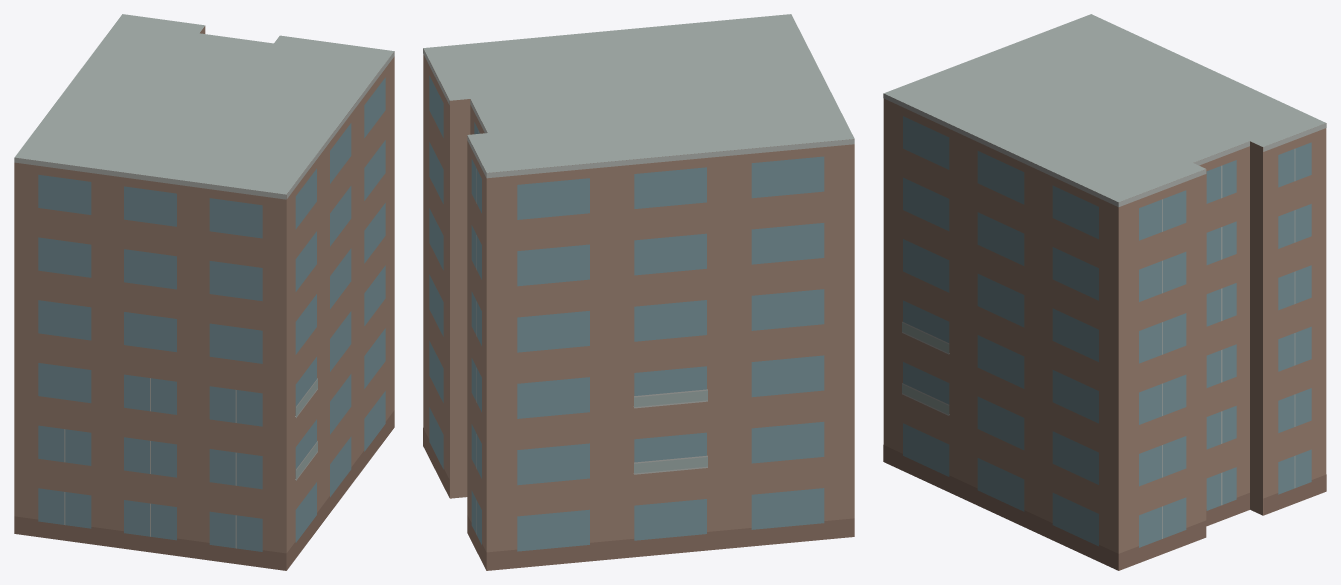
File: survey-upis-32833660.glb
3 views of the same model, side by side, from view 1: azimuth 30°, elevation 25°; view 2: azimuth 150°, elevation 25°; view 3: azimuth 270°, elevation 25° (orthographic). The views are drawn at different scales.
Visible parts, largest first — view 1: survey-upis-32833660.tmp; view 2: survey-upis-32833660.tmp; view 3: survey-upis-32833660.tmp.
Part boxes in pixels (box(x1,y1,x2,y2)): survey-upis-32833660.tmp: box(14, 14, 394, 570); survey-upis-32833660.tmp: box(423, 14, 854, 570); survey-upis-32833660.tmp: box(883, 14, 1326, 570).
Size of the model in its own units: 20.07 by 18.3 by 19.94.
